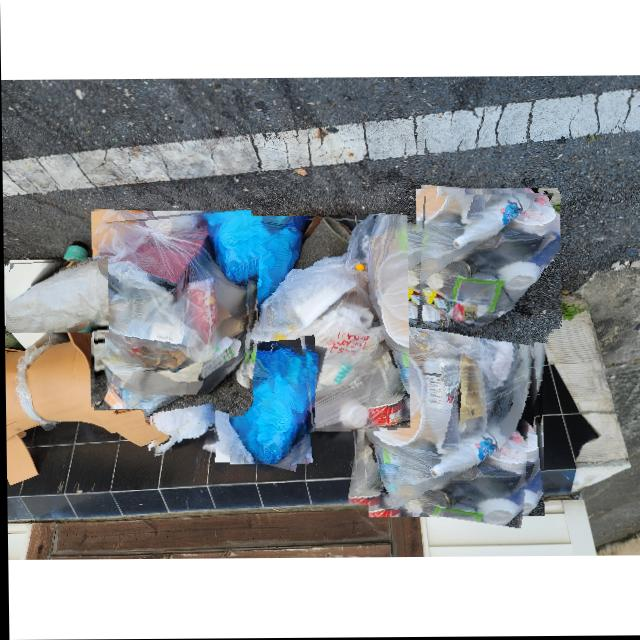other_trashbag: (362, 232, 533, 509), (243, 216, 409, 430), (93, 218, 247, 408), (417, 193, 559, 328), (227, 334, 308, 464), (6, 258, 107, 332), (150, 395, 214, 454)
